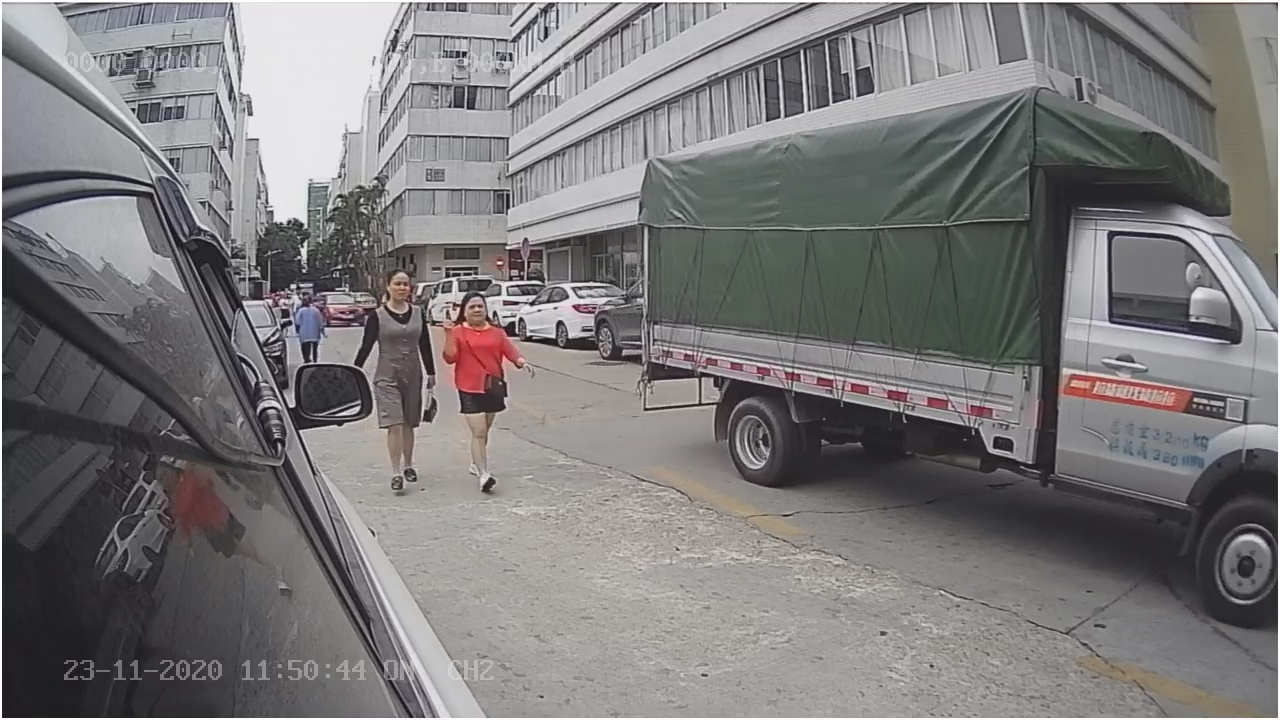person: (350, 264, 439, 490), (446, 275, 536, 494)
